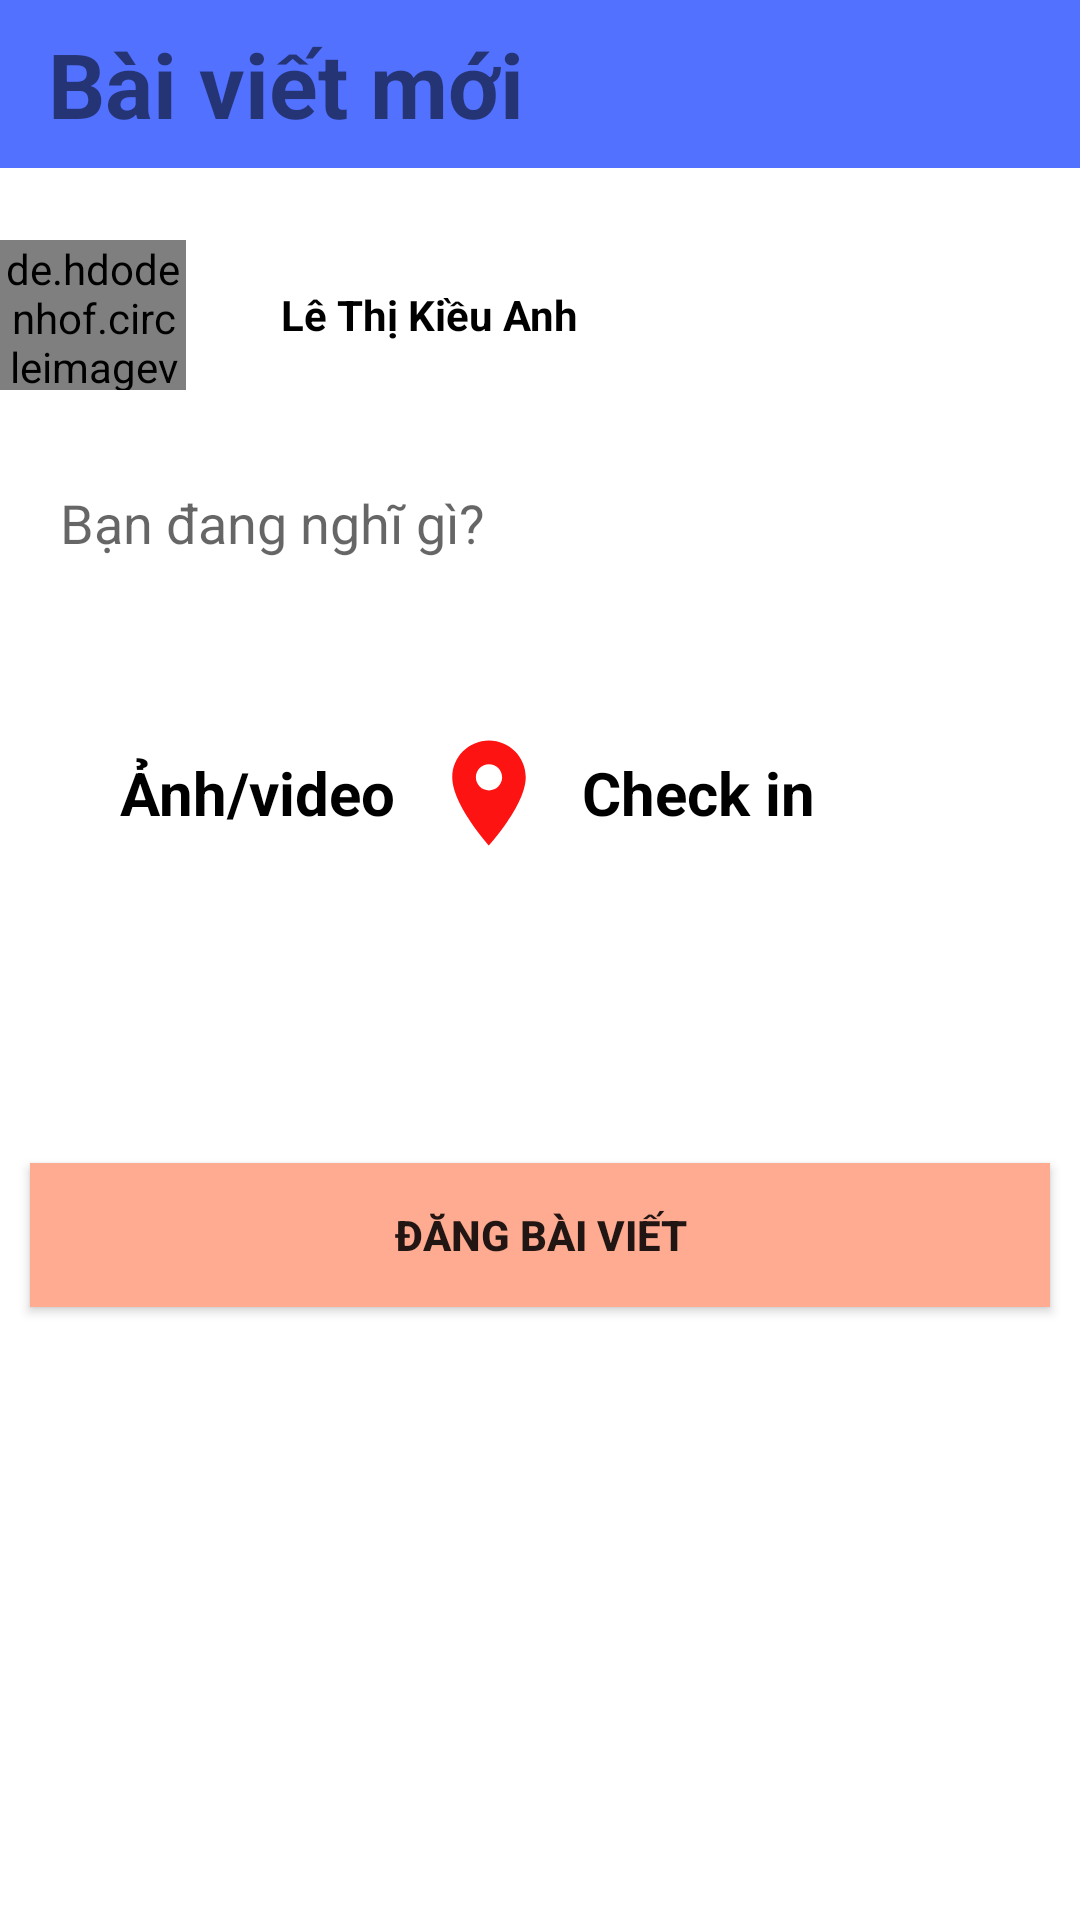

Named icons in this screenshot (1080 x 1920) and their bounding boxes, (x1, y1, x2, y2):
location on: (452, 740, 526, 846)
